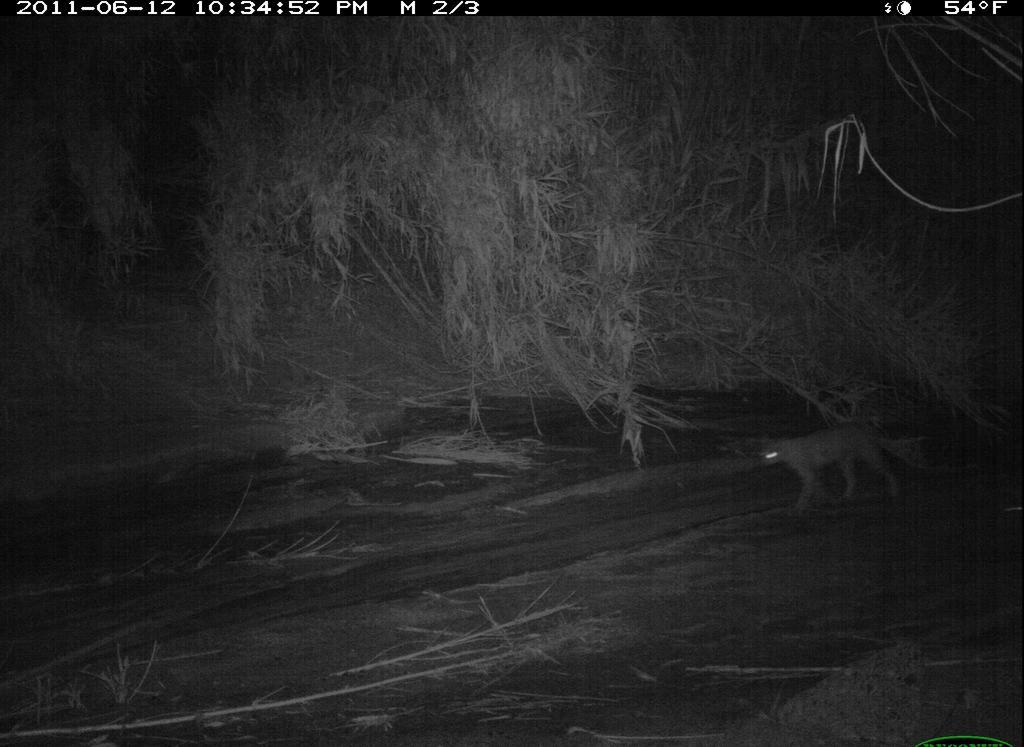bobcat: (733, 402, 930, 532)
